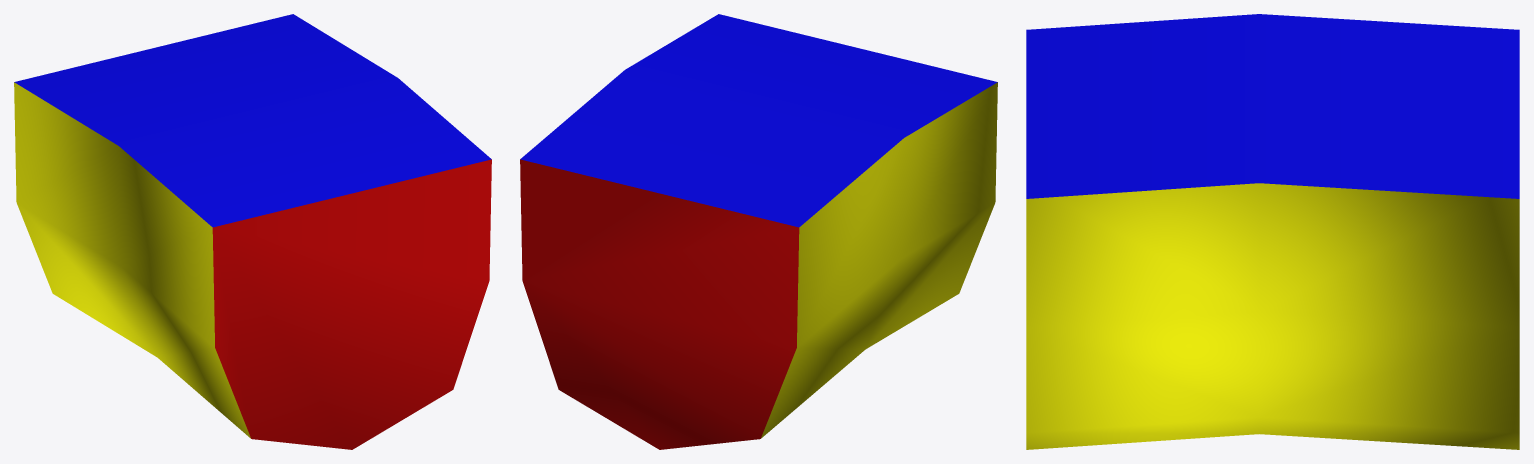
3 views of the same model, side by side, from view 1: azimuth 30°, elevation 25°; view 2: azimuth 150°, elevation 25°; view 3: azimuth 270°, elevation 25° (orthographic). The views are drawn at different scales.
Parts seen in each view (by area): view 1: polySurface128; view 2: polySurface128; view 3: polySurface128.
Boxes of the visible parts, box(x1,y1,x2,y2) form: polySurface128: box(14, 14, 491, 449); polySurface128: box(520, 14, 997, 449); polySurface128: box(1026, 14, 1519, 449).
Size of the model in its own units: 23.58 by 21.73 by 29.05.
